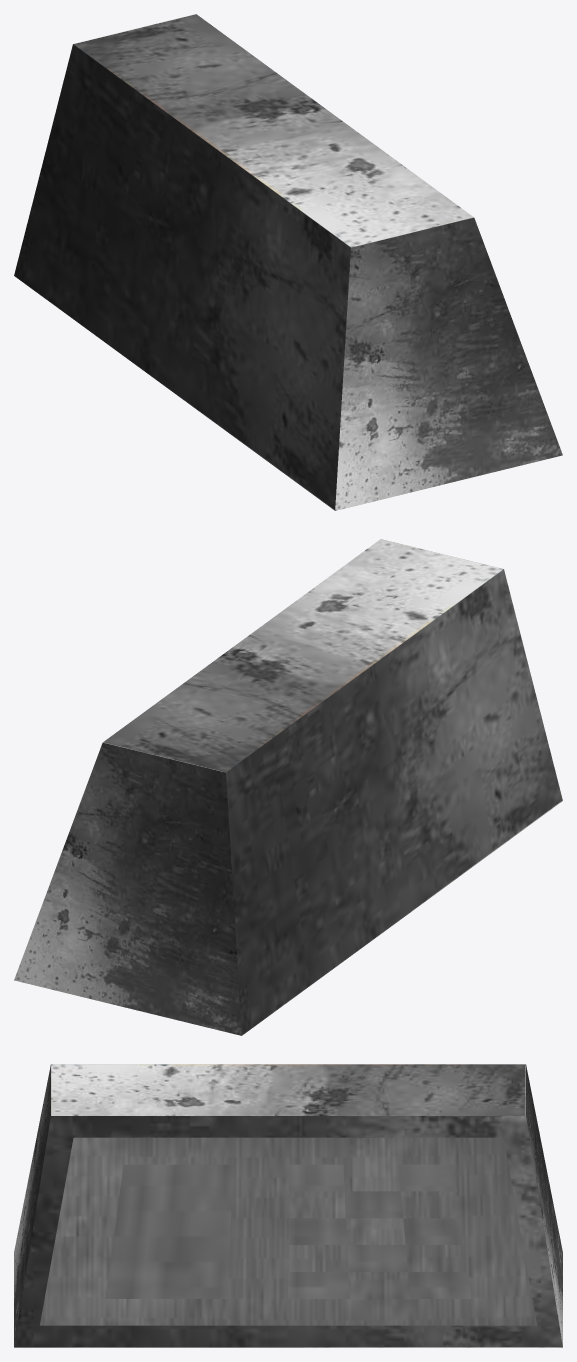
Rendered from Computers.fbx.
3 renders of one model, top to bottom at view 1: azimuth 30°, elevation 25°; view 2: azimuth 150°, elevation 25°; view 3: azimuth 270°, elevation 25°, orthographic. The views are drawn at different scales.
Parts seen in each view (by area): view 1: Computers; view 2: Computers; view 3: Computers.
Part boxes in pixels (left/top/right/bottom): Computers: left=14, top=14, right=562, bottom=510; Computers: left=14, top=539, right=562, bottom=1035; Computers: left=14, top=1064, right=562, bottom=1347.
Bounding box in the file's own units: 148 × 148 × 361.
